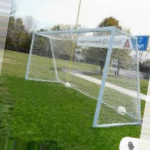goals: (23, 25, 143, 133)
